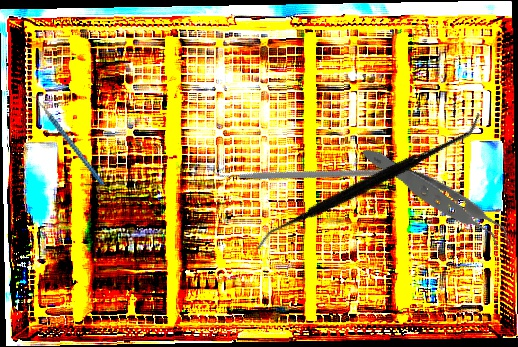Chopper: (206, 80, 398, 258), (25, 80, 105, 200)
Spatula Surgical: (253, 49, 483, 313)
Tissue Forceps: (360, 109, 518, 295)
